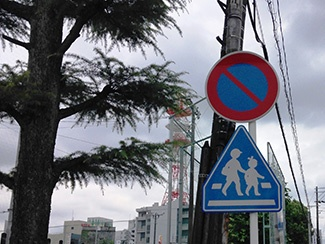Prohibition_sign: (204, 53, 286, 143)
